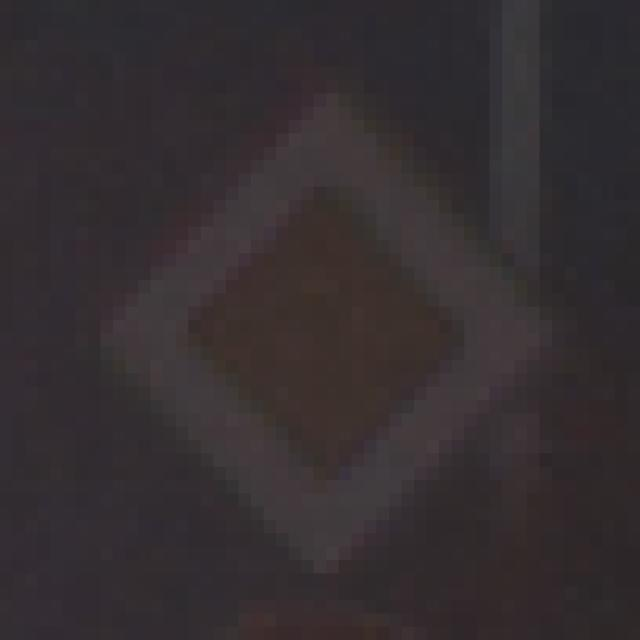Main Road: (64, 68, 578, 574)
